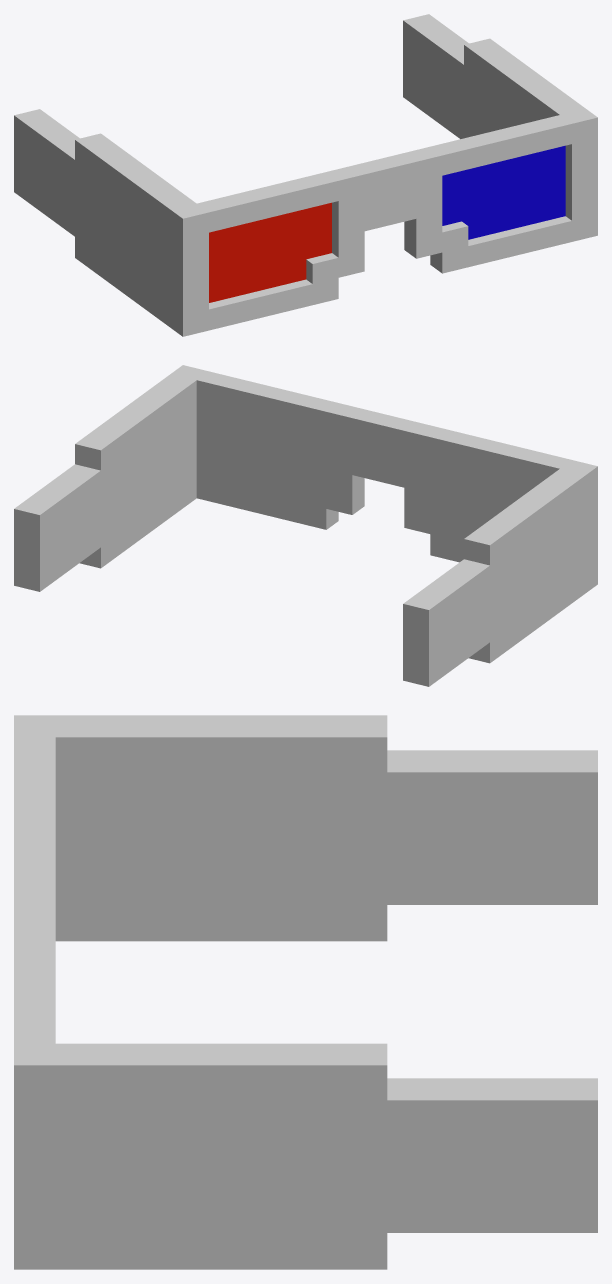
File: f_3D_glasses.fbx
3 views of the same model, one above another, from view 1: azimuth 30°, elevation 25°; view 2: azimuth 150°, elevation 25°; view 3: azimuth 270°, elevation 25° (orthographic). The views are drawn at different scales.
Parts seen in each view (by area): view 1: 3D glasses; view 2: 3D glasses; view 3: 3D glasses.
Boxes of the visible parts, x1,y1,x2,y2 form: 3D glasses: (14,14,597,336); 3D glasses: (14,365,597,686); 3D glasses: (14,715,597,1269).
Bounding box in the file's own units: 53.82 × 14.64 × 37.95.
